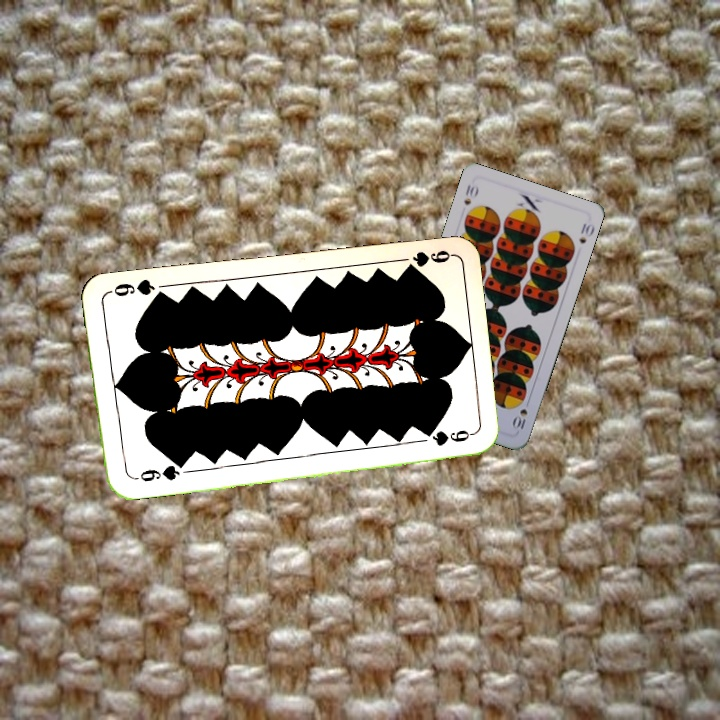G9: (394, 246, 453, 273), (127, 459, 185, 485)
S10: (508, 395, 533, 432), (460, 181, 481, 208)
